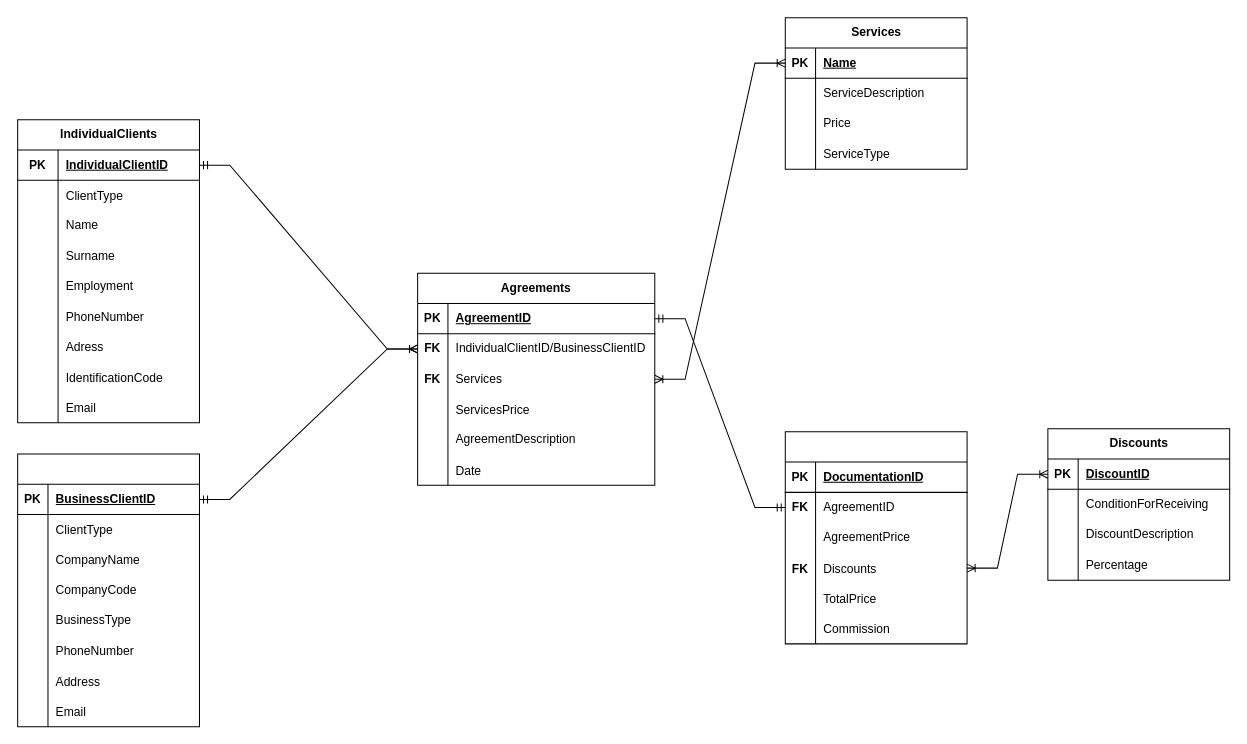
Some shapes in this 1247 by 744 pixel diagram are drawn without their labels. Here are the shapes that lost their labels. From the top down, the box of each, then its label:
(784, 431, 967, 644): Documentations
(17, 453, 199, 727): BusinessClients
